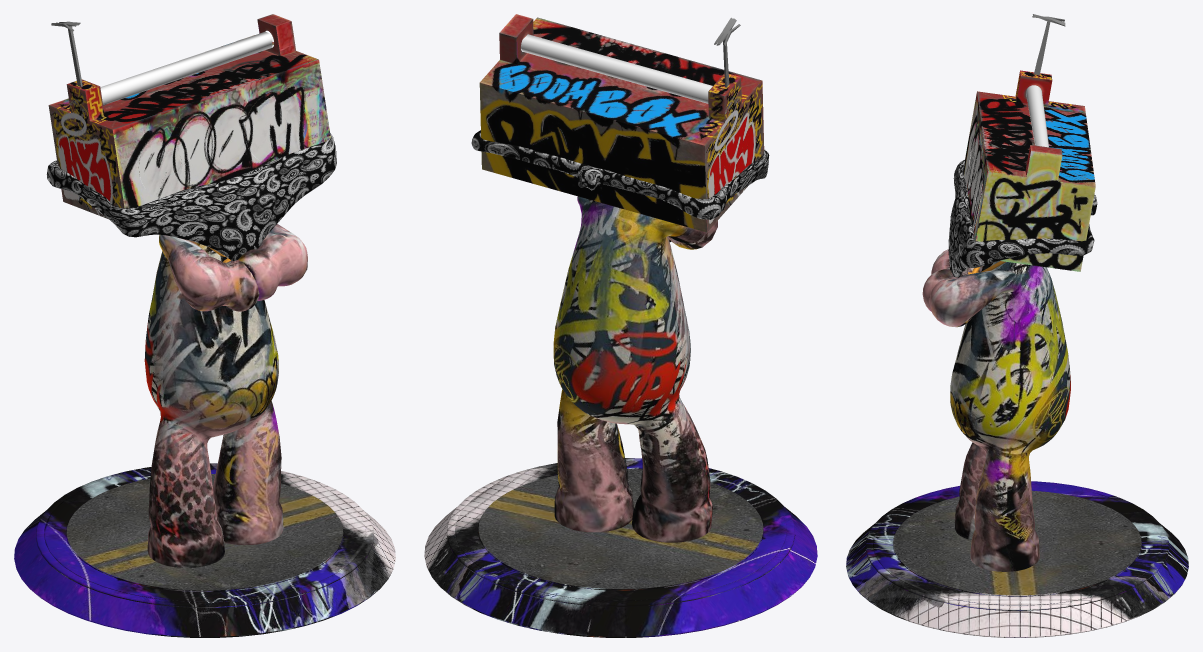
3 views of the same model, side by side, from view 1: azimuth 30°, elevation 25°; view 2: azimuth 150°, elevation 25°; view 3: azimuth 270°, elevation 25° (orthographic). The views are drawn at different scales.
Size of the model in its own units: 1.45 by 2.33 by 1.45.
Materials: 7 (6 with a texture image).
